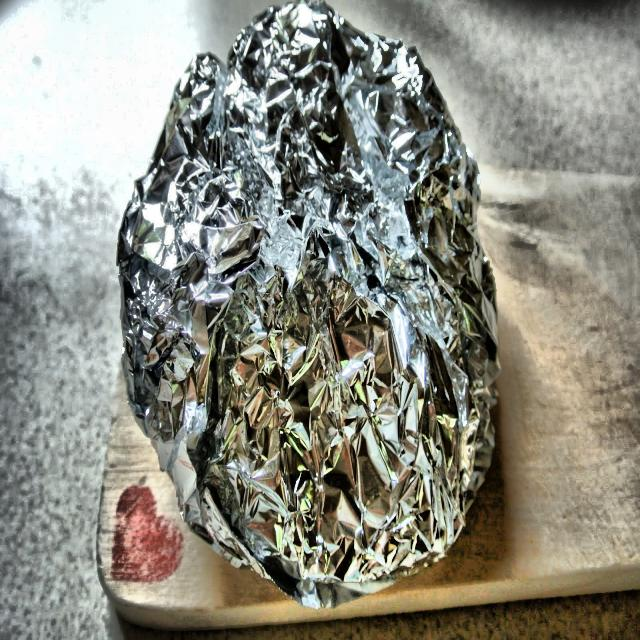Foil: (111, 0, 505, 614)
